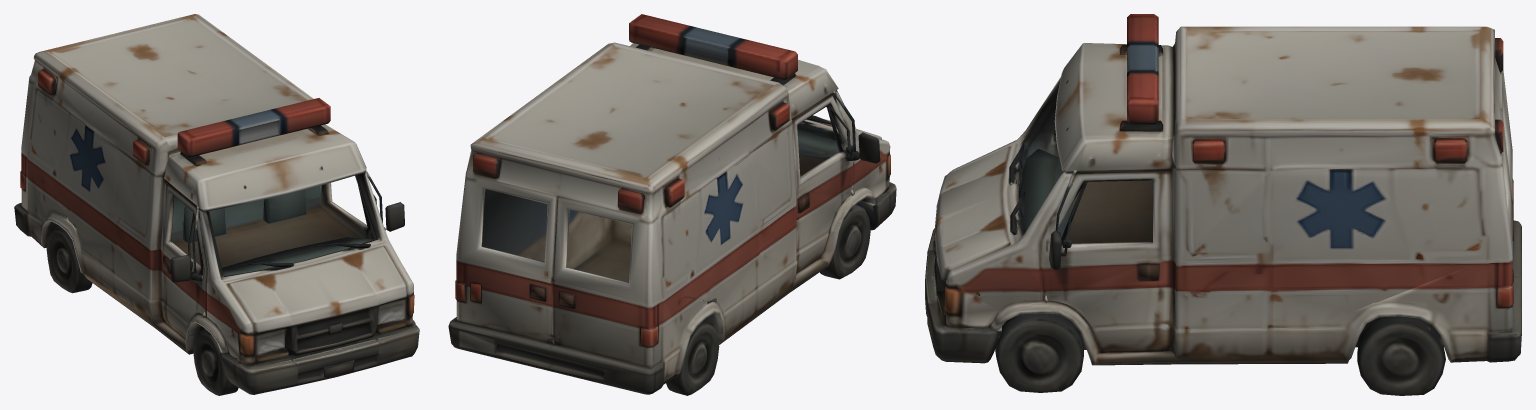
File: SM_Vehicle_Ambulance_01.fbx
3 renders of one model, left to right at view 1: azimuth 30°, elevation 25°; view 2: azimuth 150°, elevation 25°; view 3: azimuth 270°, elevation 25°, orthographic. The views are drawn at different scales.
Parts seen in each view (by area): view 1: SM_Vehicle_Ambulance_01; view 2: SM_Vehicle_Ambulance_01; view 3: SM_Vehicle_Ambulance_01.
Boxes of the visible parts, x1,y1,x2,y2 form: SM_Vehicle_Ambulance_01: [14, 14, 419, 395]; SM_Vehicle_Ambulance_01: [448, 14, 896, 395]; SM_Vehicle_Ambulance_01: [925, 14, 1521, 395].
Bounding box in the file's own units: 0.5723 × 0.5254 × 0.998.
Materials: 1 (1 with a texture image).
